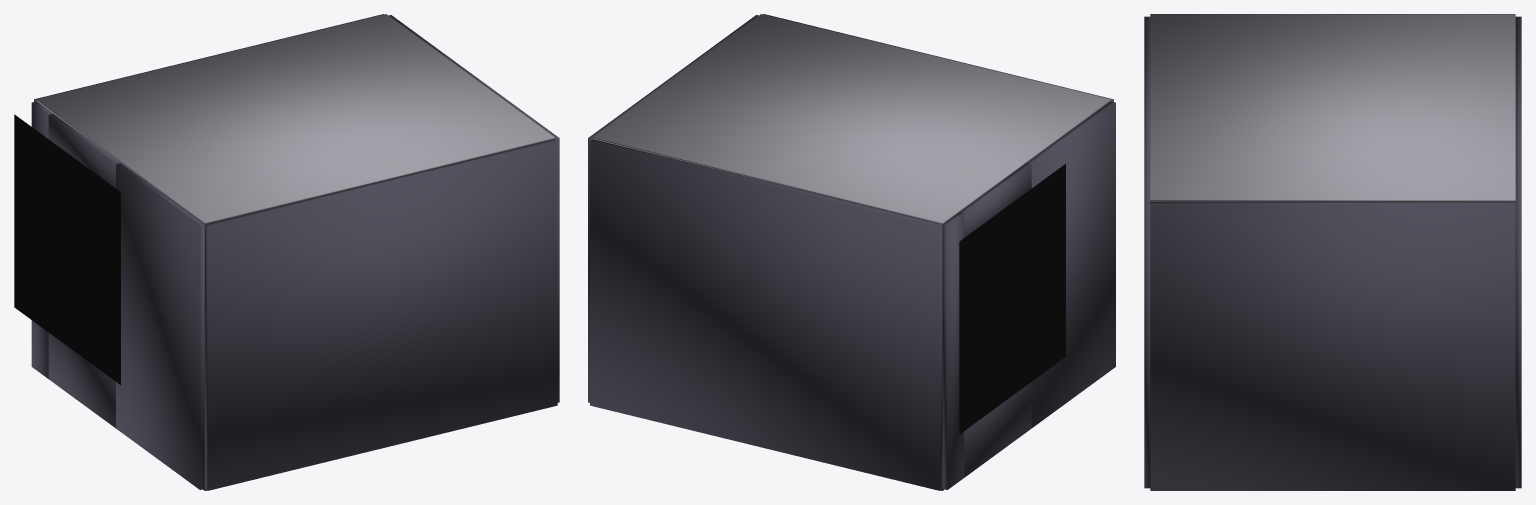
Rendered from room_1995.glb.
3 renders of one model, left to right at view 1: azimuth 30°, elevation 25°; view 2: azimuth 150°, elevation 25°; view 3: azimuth 270°, elevation 25°, orthographic. The views are drawn at different scales.
Visible parts, largest first — view 1: Wall_Front, Ceiling, Wall_Left_B, Window_Night, Wall_Left_Below, Wall_Left_Above, Wall_Left_A, Wall_Right; view 2: Wall_Back, Ceiling, Window_Night, Wall_Left_B, Wall_Left_A, Wall_Left_Below, Wall_Left_Above, Wall_Right; view 3: Wall_Right, Ceiling, Wall_Back, Wall_Front.
Part boxes in pixels (left/top/right/bottom): Wall_Front: left=205, top=139, right=557, bottom=490; Ceiling: left=36, top=14, right=554, bottom=224; Wall_Left_B: left=116, top=163, right=204, bottom=489; Window_Night: left=14, top=114, right=120, bottom=384; Wall_Left_Below: left=48, top=333, right=115, bottom=428; Wall_Left_Above: left=48, top=113, right=120, bottom=188; Wall_Left_A: left=31, top=101, right=52, bottom=378; Wall_Right: left=389, top=15, right=559, bottom=402; Wall_Back: left=590, top=139, right=942, bottom=490; Ceiling: left=593, top=14, right=1110, bottom=224; Window_Night: left=959, top=164, right=1065, bottom=434; Wall_Left_B: left=1027, top=101, right=1115, bottom=427; Wall_Left_A: left=942, top=212, right=964, bottom=489; Wall_Left_Below: left=964, top=382, right=1031, bottom=477; Wall_Left_Above: left=960, top=163, right=1031, bottom=237; Wall_Right: left=588, top=15, right=758, bottom=402; Wall_Right: left=1150, top=201, right=1515, bottom=490; Ceiling: left=1150, top=14, right=1515, bottom=201; Wall_Back: left=1515, top=16, right=1521, bottom=488; Wall_Front: left=1144, top=16, right=1150, bottom=488.
Bounding box in the file's own units: 3.85 × 2.64 × 3.1.
Materials: 10 (3 with a texture image).
